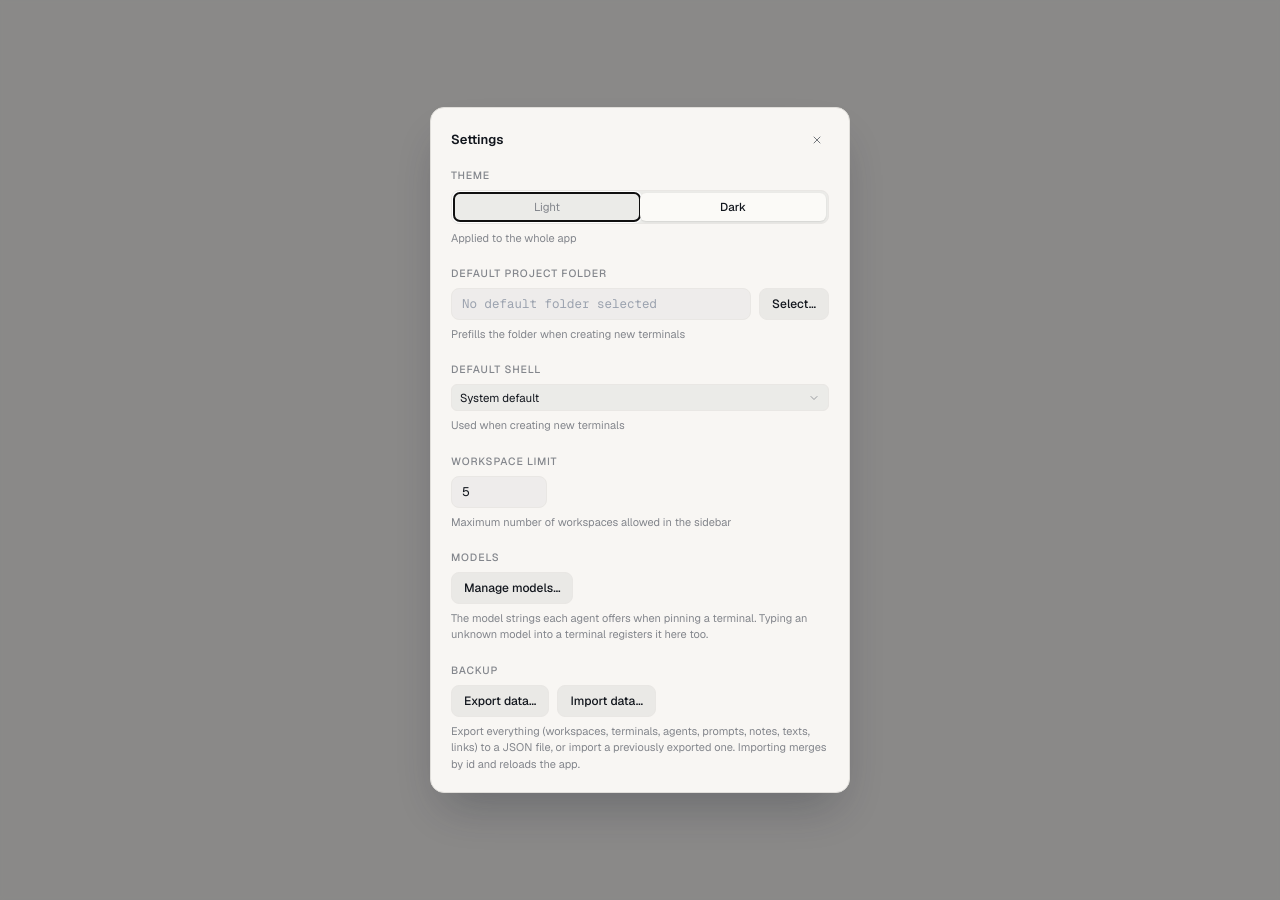
Test case: SettingsModal › shows an error and does not reload when the import fails
The image size is (1280, 900).
Click the button "Import data…": (607, 701) x1=557 y1=685 x2=656 y2=717
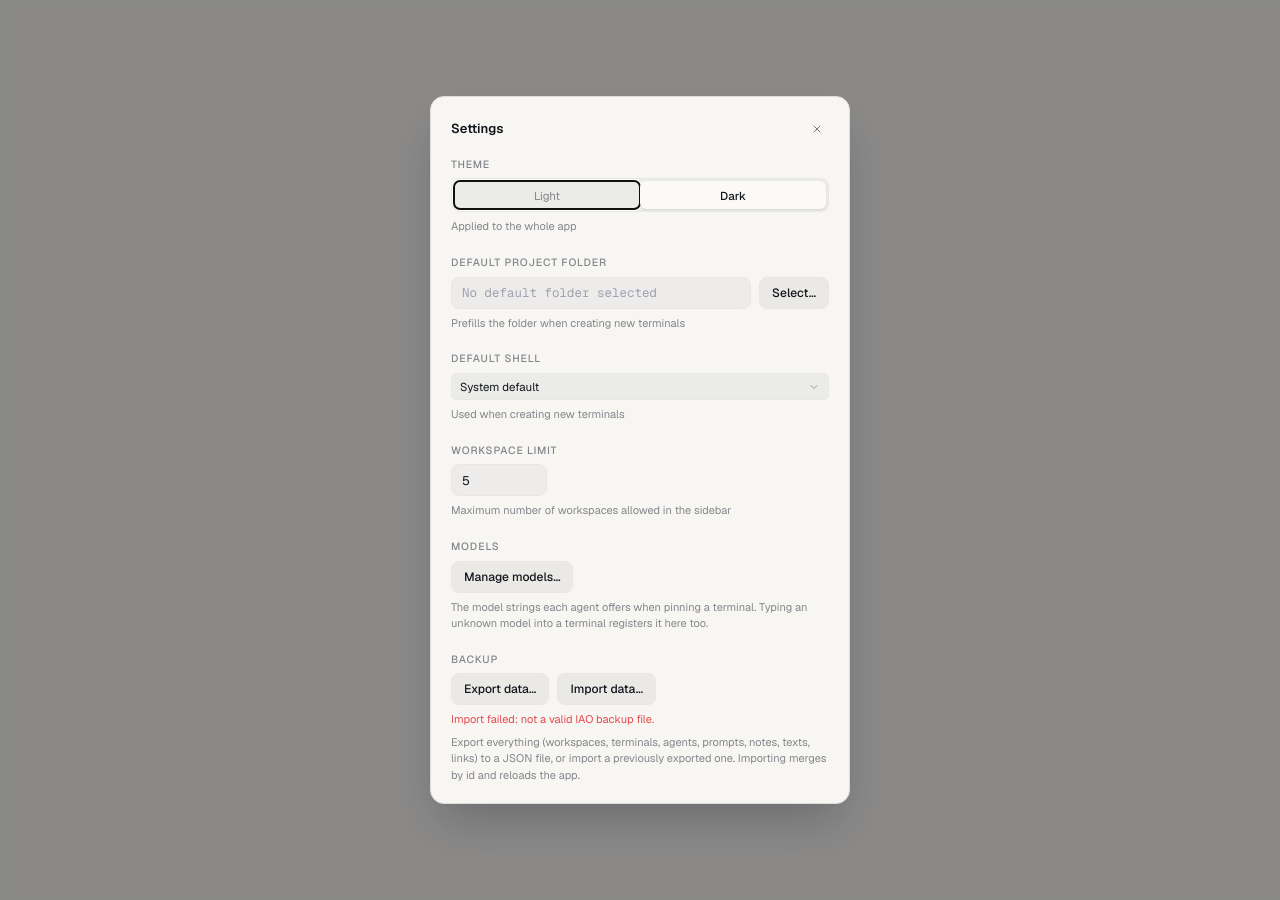
Check: the message shows "Import failed", box x1=451 y1=712 x2=654 y2=726
